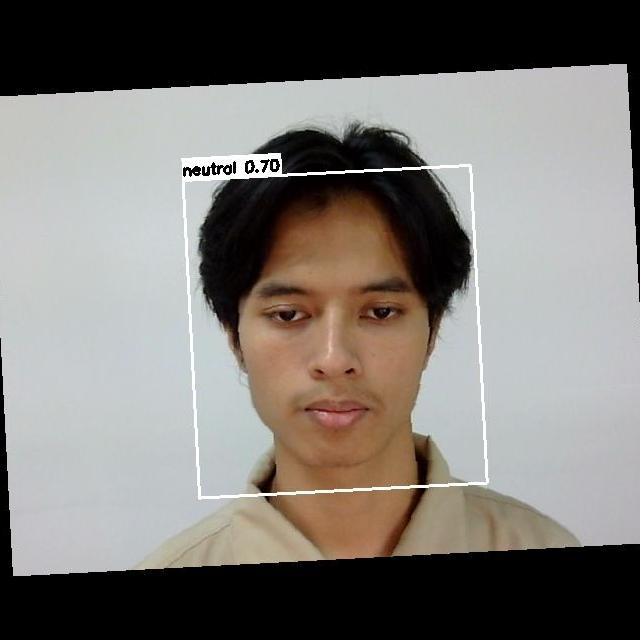Natural: (245, 266, 429, 442)
